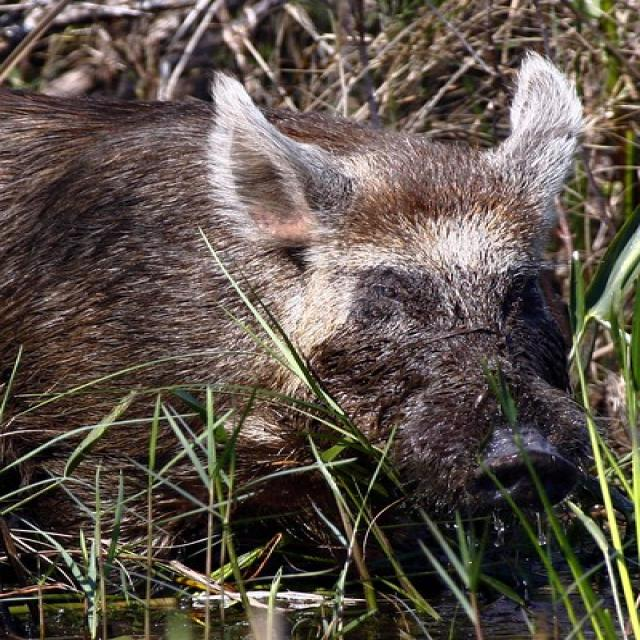boar: (0, 0, 608, 581)
